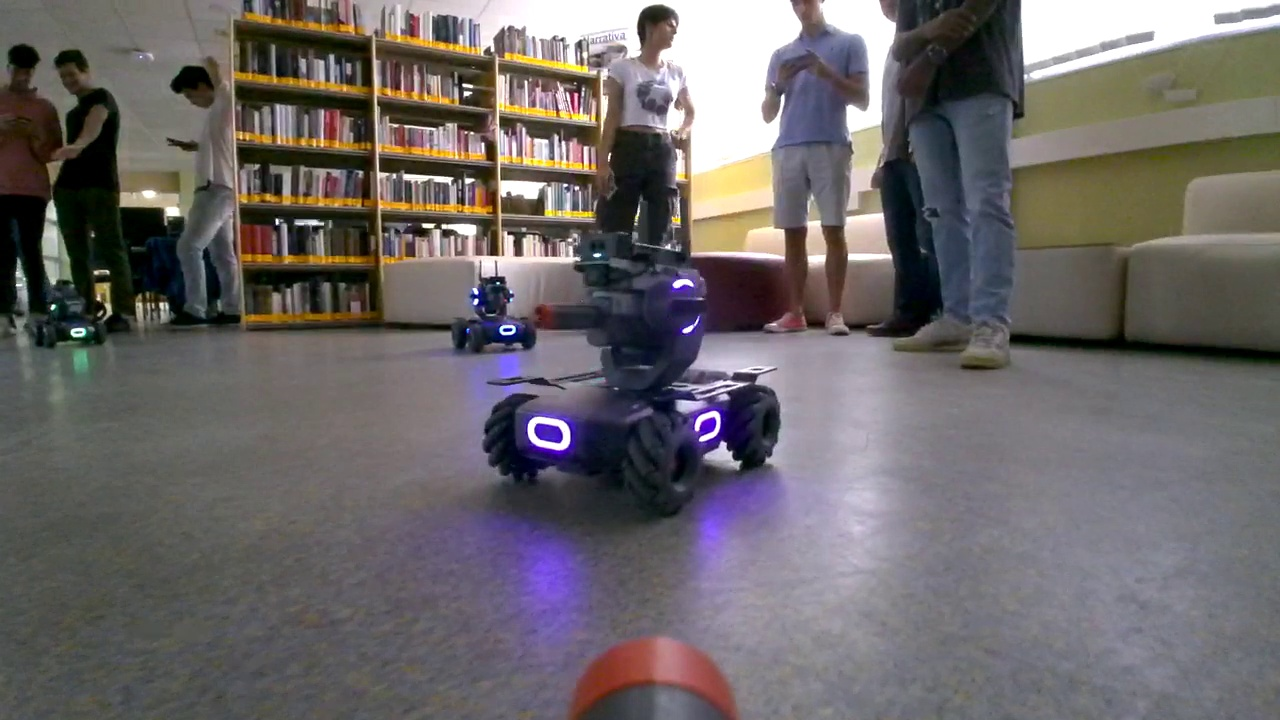robot: (478, 237, 783, 523), (447, 278, 539, 356), (31, 278, 111, 351)
